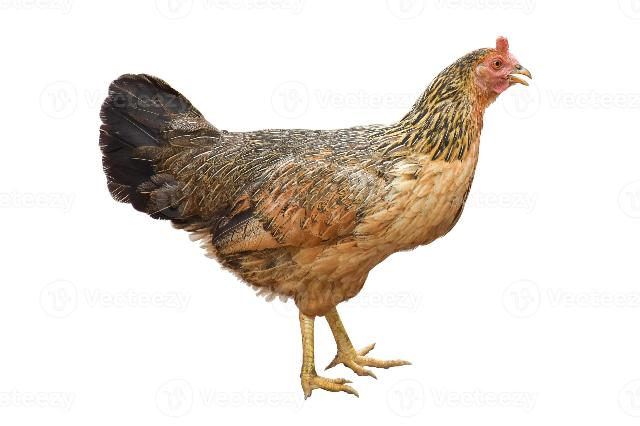Chicken: (96, 37, 530, 397)
